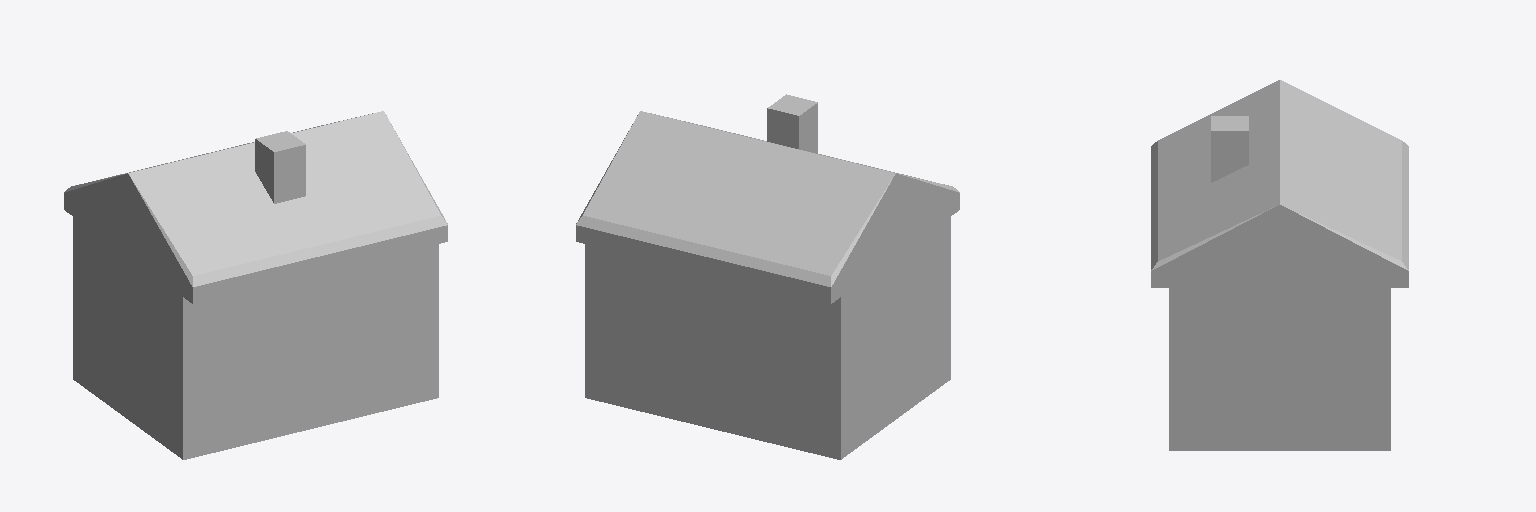
Rendered from Hotel.obj.
The picture shows the model from 3 angles: view 1: azimuth 30°, elevation 25°; view 2: azimuth 150°, elevation 25°; view 3: azimuth 270°, elevation 25°; orthographic projection.
Parts seen in each view (by area): view 1: Hotel_Mesh.012; view 2: Hotel_Mesh.012; view 3: Hotel_Mesh.012.
Boxes of the visible parts, box(x1,y1,x2,y2) form: Hotel_Mesh.012: box(64, 111, 447, 459); Hotel_Mesh.012: box(576, 94, 959, 459); Hotel_Mesh.012: box(1151, 80, 1408, 450).
Bounding box in the file's own units: 1.44 × 1.43 × 1.26.